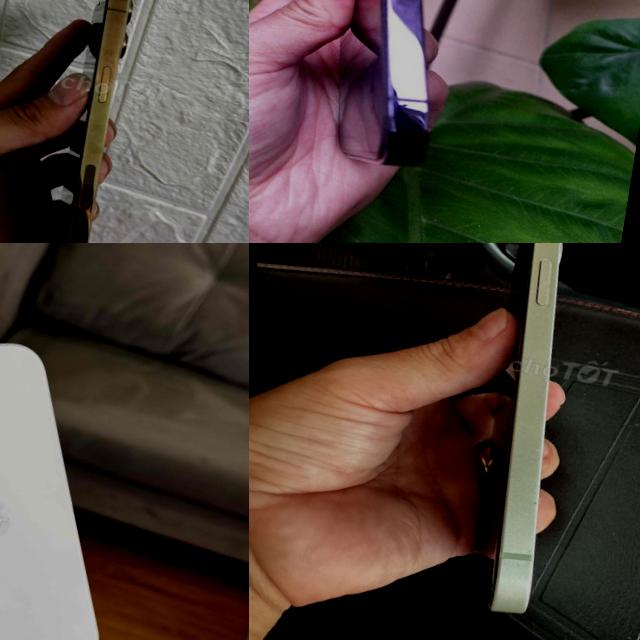gen_12_13: (445, 243, 616, 623), (26, 0, 197, 243)
gen_14: (270, 0, 507, 183)
gen_15: (0, 320, 158, 640)
